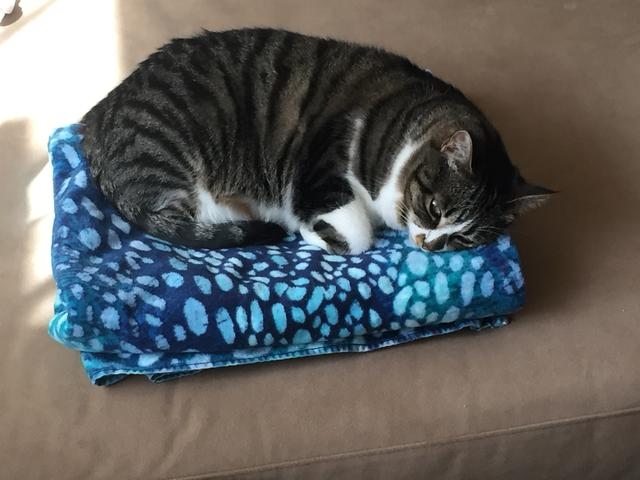playdoh: (73, 26, 552, 253)
